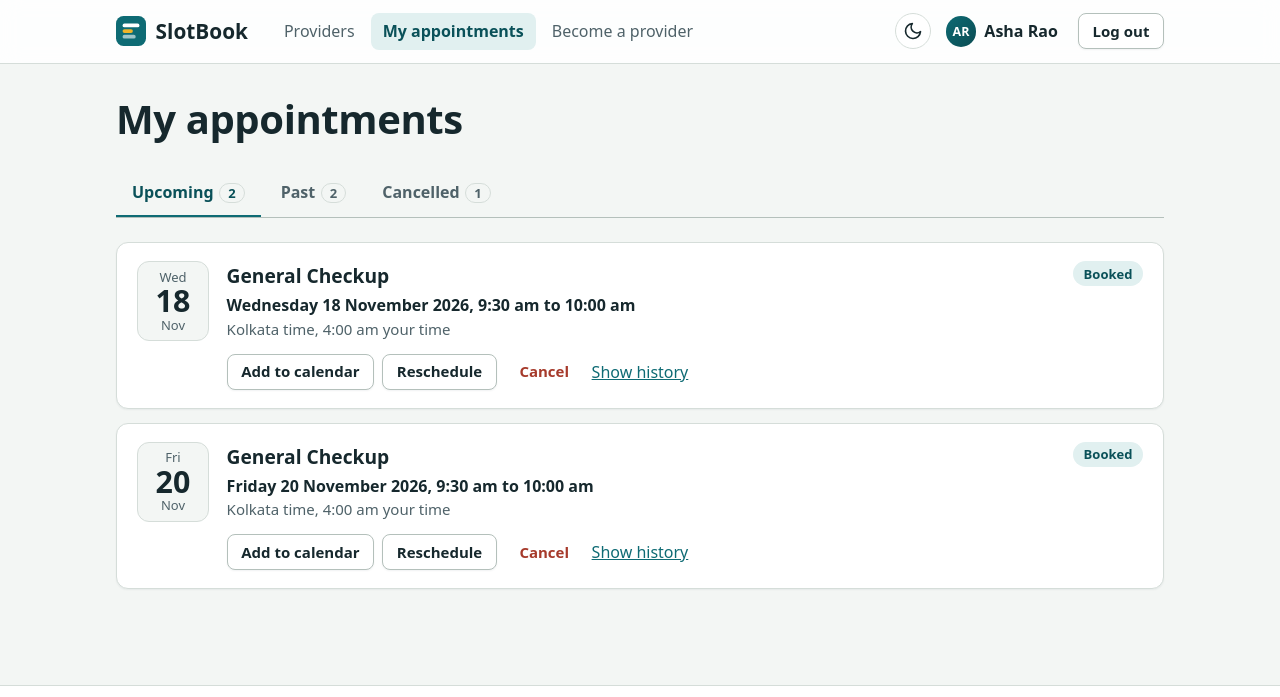
my appointments › asks before cancelling, defaulting to the safe choice, then updates the list
Step 1. Click the button "Cancel" below "Wednesday 18 November 2026" → point(544, 372), box [505,354,584,390]
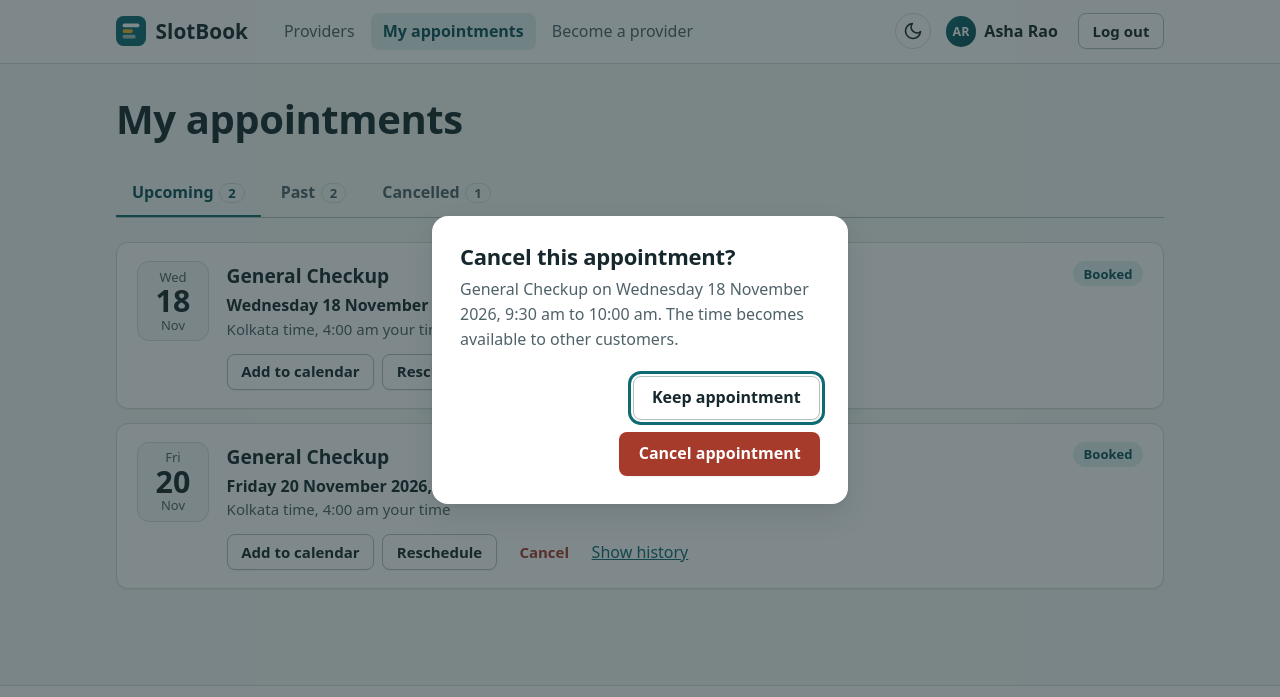
Step 2. Click the button "Cancel appointment" → point(720, 454), box [619,432,820,476]
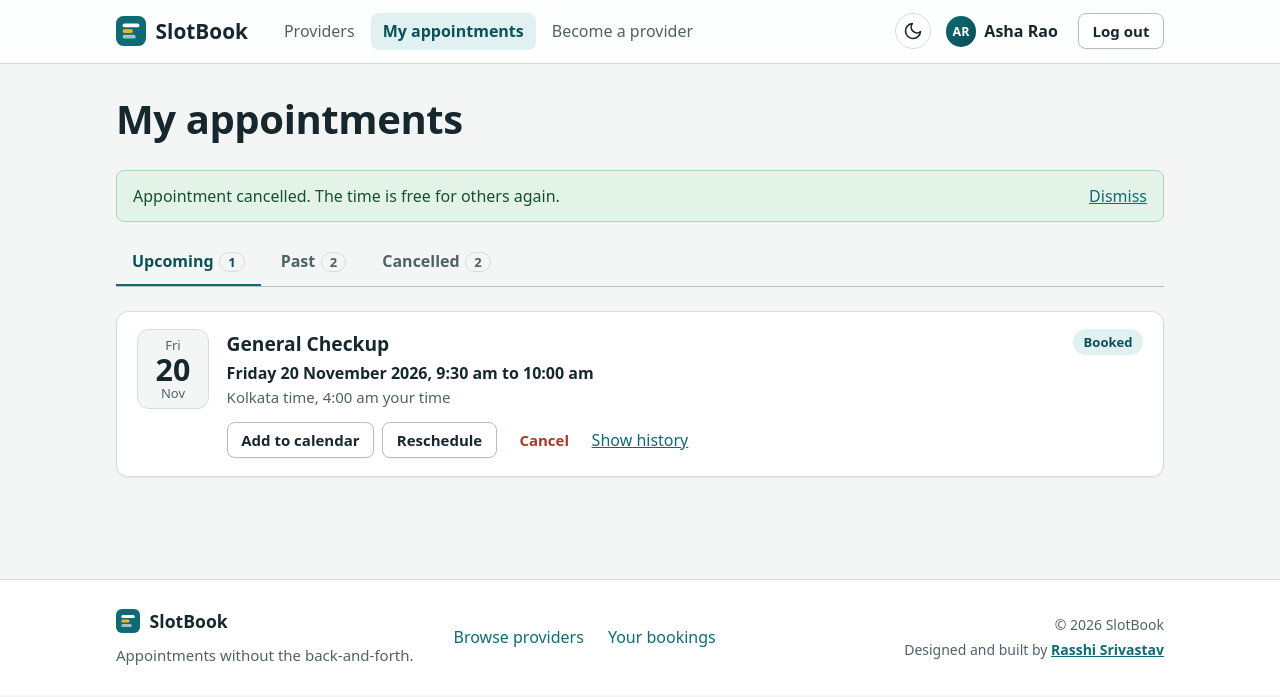
Result: the text "Appointment cancelled. The time is free for others again." is shown at [133,184,560,208]
Result: the dialog is gone
Result: the tab "Upcoming1" is shown at [116,238,261,287]
